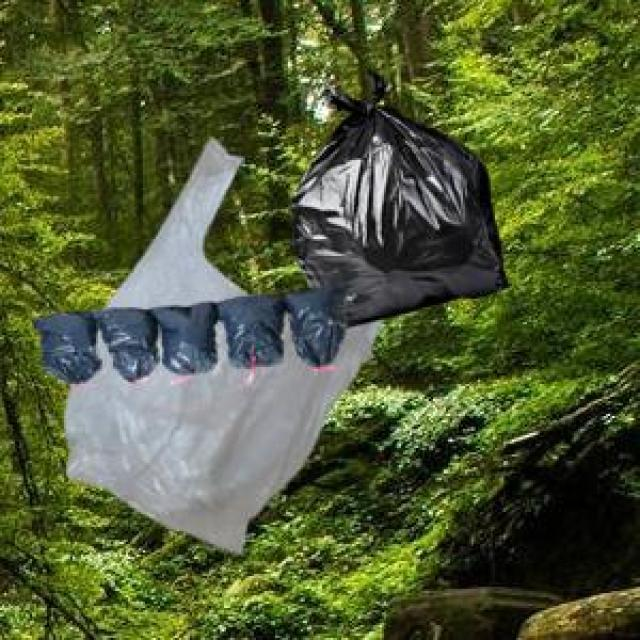miscellaneous trash: (286, 66, 506, 324), (28, 280, 352, 382)
